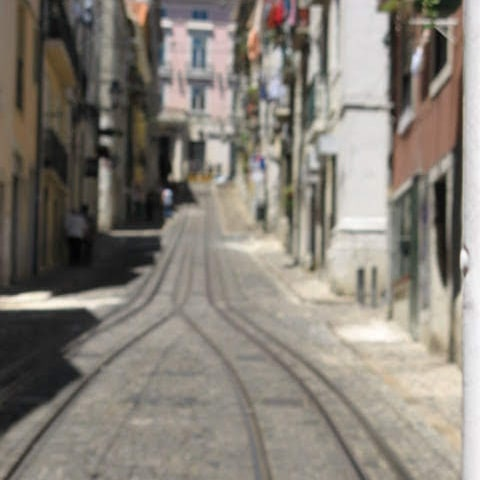building: (385, 1, 480, 371), (1, 1, 91, 264), (295, 1, 376, 276), (94, 1, 168, 220), (239, 1, 295, 225), (163, 12, 233, 184)
street: (55, 197, 382, 480)
